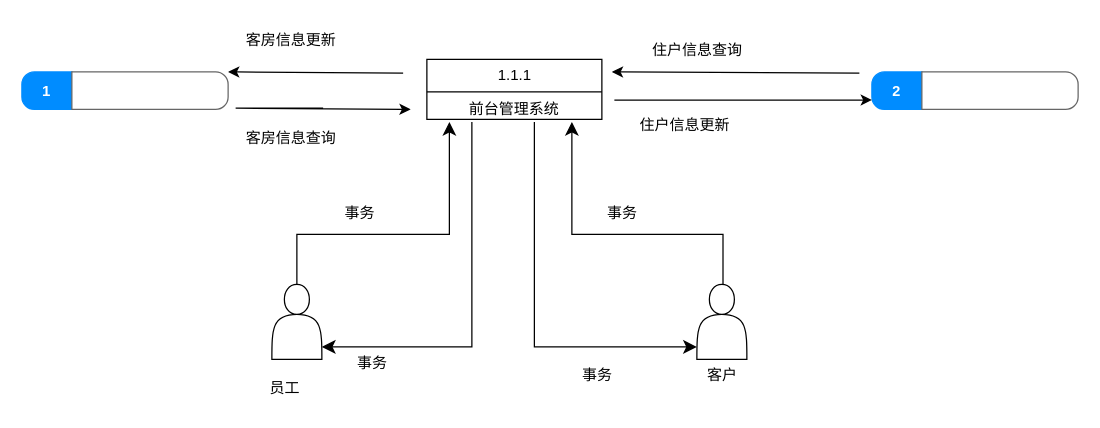
The diagram is 1100 pixels wide and 428 high, and some of its shapes have lost their labels. The shapes that lost their labels are listed below. From the top down, each one's box as (x1, y1, x2, y2) in pixels, then its label:
(71, 71, 228, 109): 客房信息
(921, 71, 1078, 109): 住户信息
